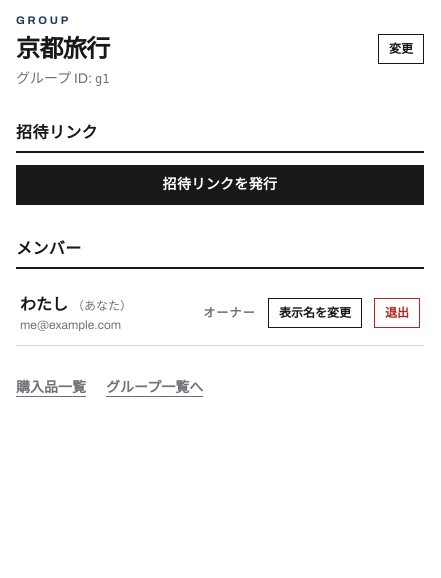
it: 表示名の保存に失敗するとエラーメッセージを表示し、フォームは開いたまま残る
Click the button "表示名を変更".
click(315, 312)  # box [268,298,362,328]
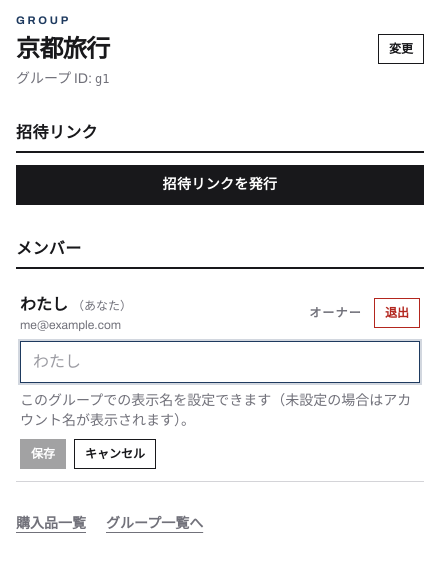
Type "お父さん" into the field named "表示名".
click(220, 362); type("お父さん")  # box [20,340,420,382]
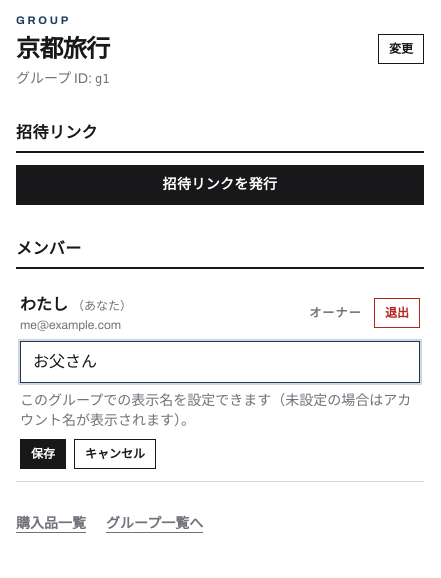
Click the button "保存".
click(43, 454)  # box [20,438,66,468]
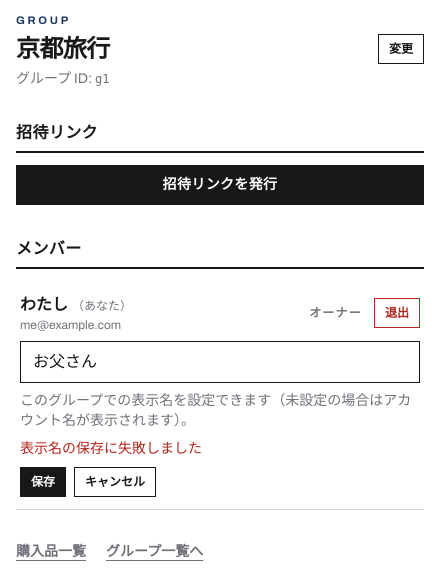
Now the text "表示名の保存に失敗しました" is shown, box [20,440,202,456]
